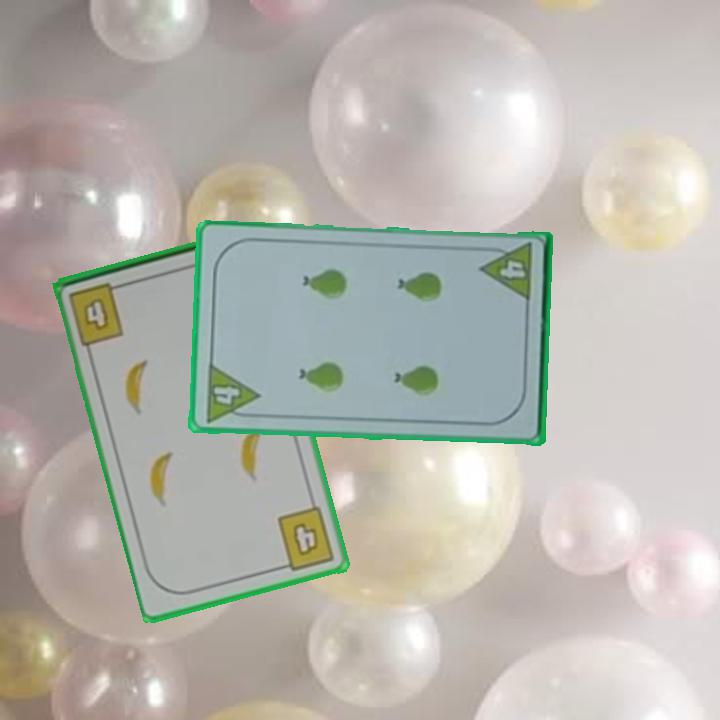4b: (274, 503, 338, 574), (65, 278, 129, 348)
4p: (202, 360, 262, 425), (478, 239, 535, 305)
